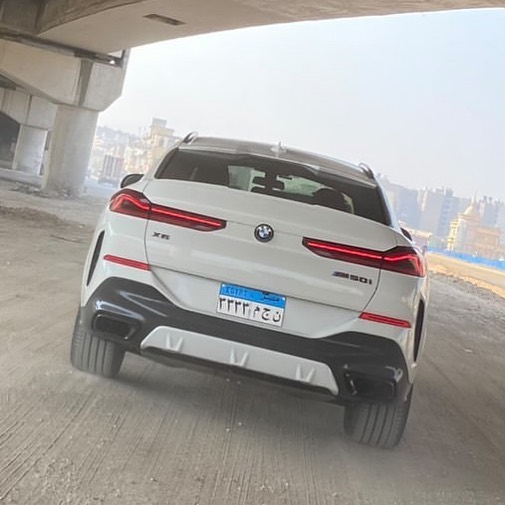carpl: (215, 286, 286, 326)
